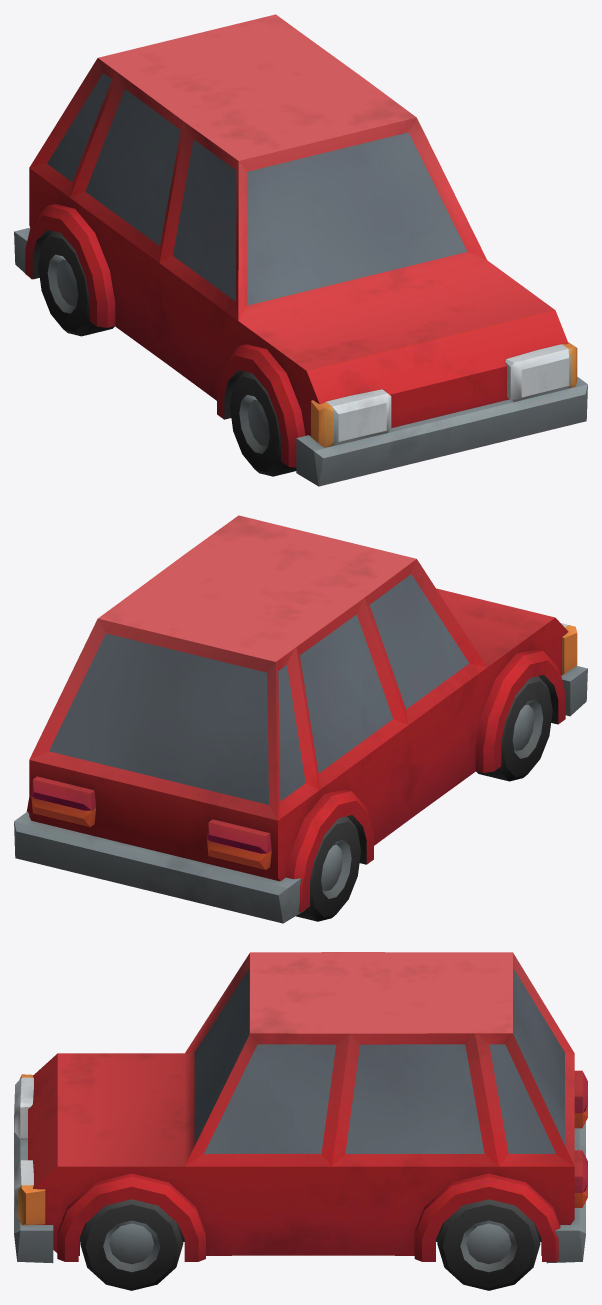
The model's file is car_hatchback.glb.
The picture shows the model from 3 angles, top to bottom: view 1: azimuth 30°, elevation 25°; view 2: azimuth 150°, elevation 25°; view 3: azimuth 270°, elevation 25°; orthographic projection. The views are drawn at different scales.
Parts seen in each view (by area): view 1: car_hatchback, car_hatchback_wheel_rear_right, car_hatchback_wheel_front_right; view 2: car_hatchback, car_hatchback_wheel_front_right, car_hatchback_wheel_rear_right; view 3: car_hatchback, car_hatchback_wheel_front_left, car_hatchback_wheel_rear_left.
Boxes of the visible parts, left/top/right/bottom form: car_hatchback: left=14, top=14, right=587, bottom=486; car_hatchback_wheel_rear_right: left=38, top=231, right=114, bottom=336; car_hatchback_wheel_front_right: left=230, top=371, right=296, bottom=476; car_hatchback: left=14, top=515, right=587, bottom=923; car_hatchback_wheel_front_right: left=476, top=676, right=552, bottom=781; car_hatchback_wheel_rear_right: left=296, top=816, right=360, bottom=921; car_hatchback: left=14, top=952, right=587, bottom=1263; car_hatchback_wheel_front_left: left=80, top=1199, right=183, bottom=1290; car_hatchback_wheel_rear_left: left=437, top=1199, right=540, bottom=1290.
Bounding box in the file's own units: 0.419 × 0.3688 × 0.8061.
Materials: 2 (2 with a texture image).
